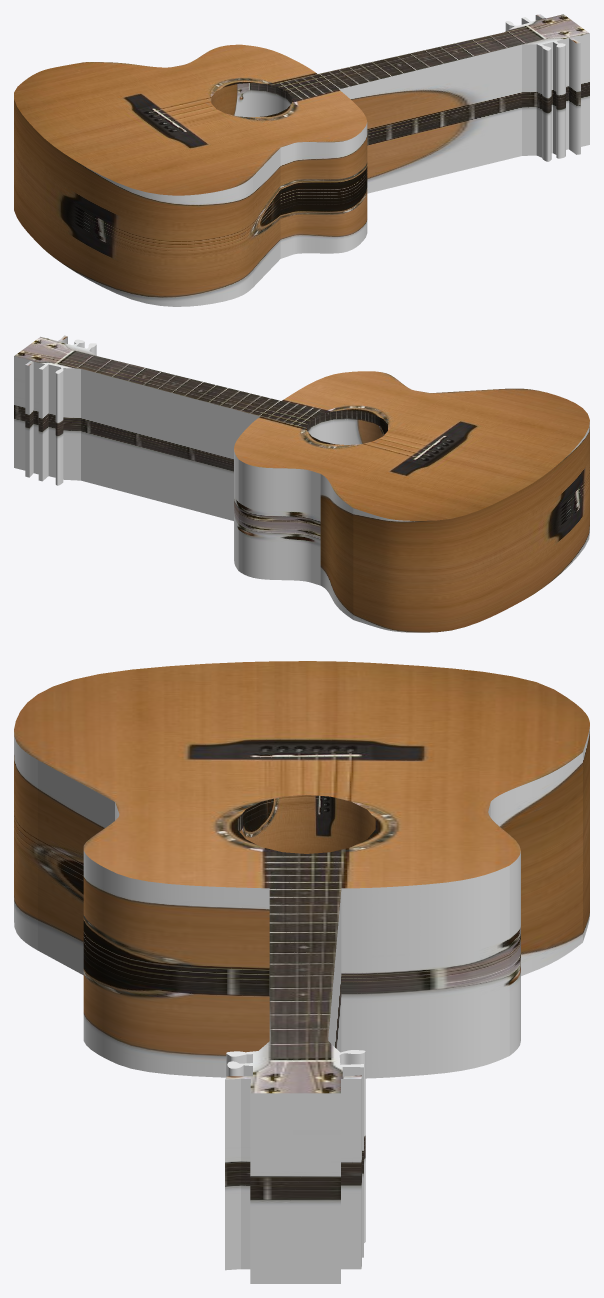
Rendered from guitar.FBX.
The picture shows the model from 3 angles, top to bottom: view 1: azimuth 30°, elevation 25°; view 2: azimuth 150°, elevation 25°; view 3: azimuth 270°, elevation 25°; orthographic projection. The views are drawn at different scales.
Parts seen in each view (by area): view 1: Line001; view 2: Line001; view 3: Line001.
Part boxes in pixels (<box>): Line001: <box>14,14,589,306</box>; Line001: <box>14,335,589,632</box>; Line001: <box>14,661,589,1283</box>.
Bounding box in the file's own units: 146 × 30 × 82.22.
